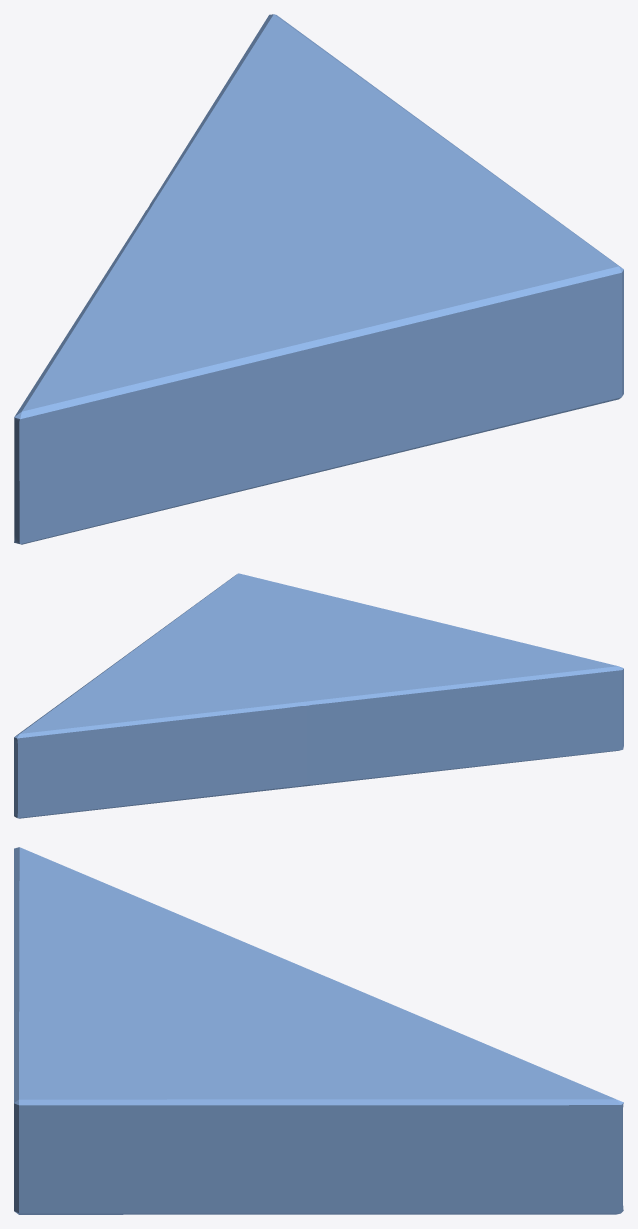
Rendered from Triangulo_01.fbx.
3 views of the same model, one above another, from view 1: azimuth 30°, elevation 25°; view 2: azimuth 150°, elevation 25°; view 3: azimuth 270°, elevation 25° (orthographic). The views are drawn at different scales.
Visible parts, largest first — view 1: polySurface59; view 2: polySurface59; view 3: polySurface59.
Boxes of the visible parts, x1,y1,x2,y2 form: polySurface59: (14,14,623,544); polySurface59: (14,573,623,818); polySurface59: (14,847,623,1214).
Bounding box in the file's own units: 6.76 × 1.41 × 6.76.
